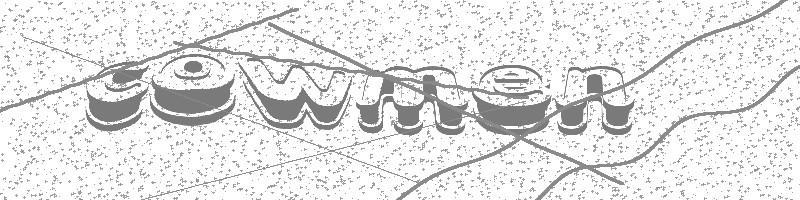c: (84, 60, 149, 132)
e: (471, 63, 551, 135)
m: (355, 65, 467, 135)
n: (556, 64, 635, 136)
o: (150, 53, 237, 127)
w: (238, 56, 353, 131)
